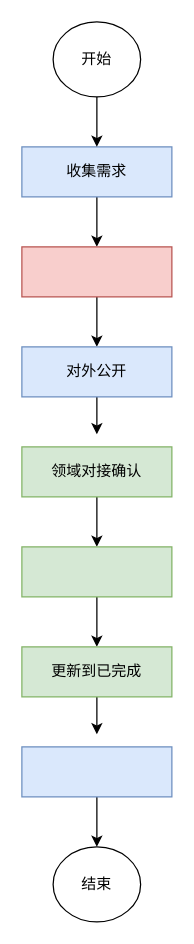
Image size: 194x944. Some labels were removed from this diagram. The shapes that lost their labels are listed below. From the top down, each one's centre as x and y in pixels, then its label:
At pixel 96 271: "IT内部评审".
At pixel 96 571: "排期开发".
At pixel 96 771: "对外公布已完成".
